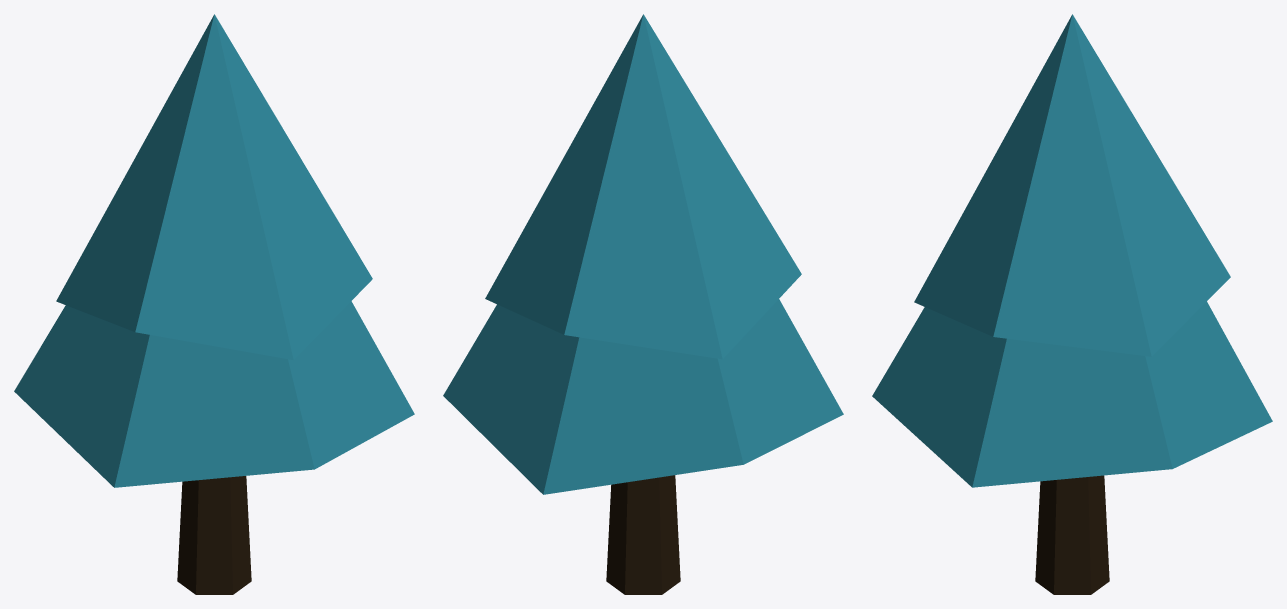
The model's file is Low_Poly_Tree_Double.obj.
3 renders of one model, left to right at view 1: azimuth 30°, elevation 25°; view 2: azimuth 150°, elevation 25°; view 3: azimuth 270°, elevation 25°, orthographic.
Visible parts, largest first — view 1: Cone.003; view 2: Cone.003; view 3: Cone.003.
Part boxes in pixels (left/top/right/bottom): Cone.003: left=14, top=14, right=414, bottom=594; Cone.003: left=443, top=14, right=843, bottom=594; Cone.003: left=872, top=14, right=1272, bottom=594.
Bounding box in the file's own units: 2.3 × 4.15 × 2.66.
